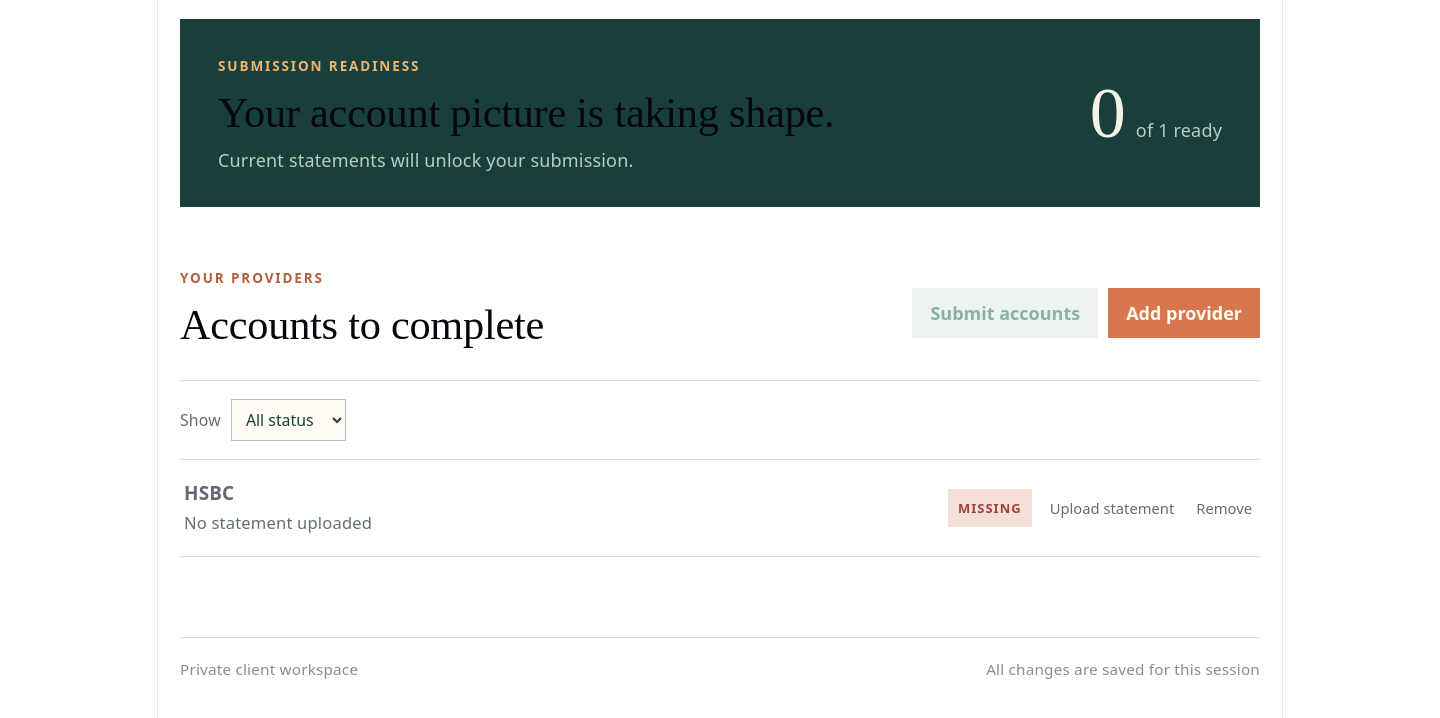
Test: App › filters accounts by status
(page scrolled)
Check: the heading "HSBC" is shown, box 184,480 -> 234,506
Select "Uploaded" in the dropdown at (288, 420), box 231,399 -> 346,441
(page scrolled)
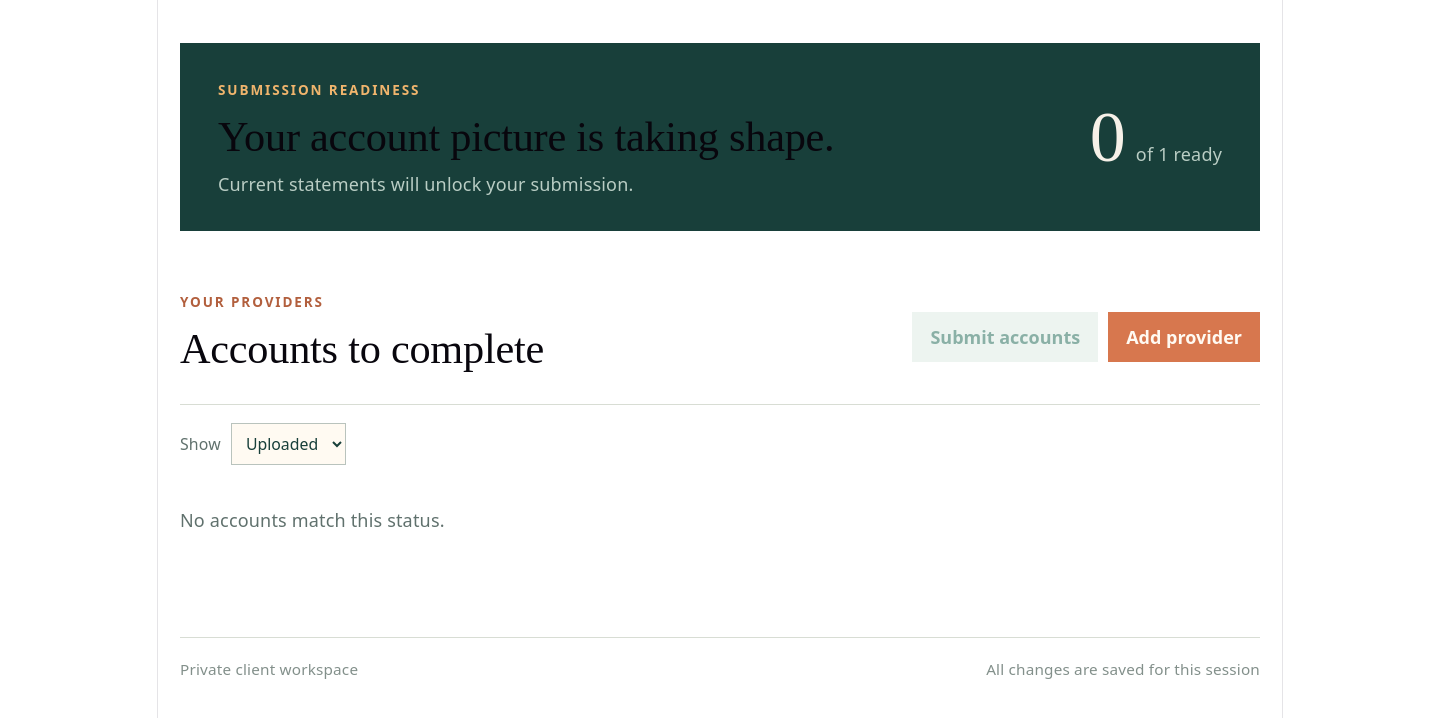
Check: the text "No accounts match this status." is shown, box 180,508 -> 445,532
Check: the heading "HSBC" is gone
